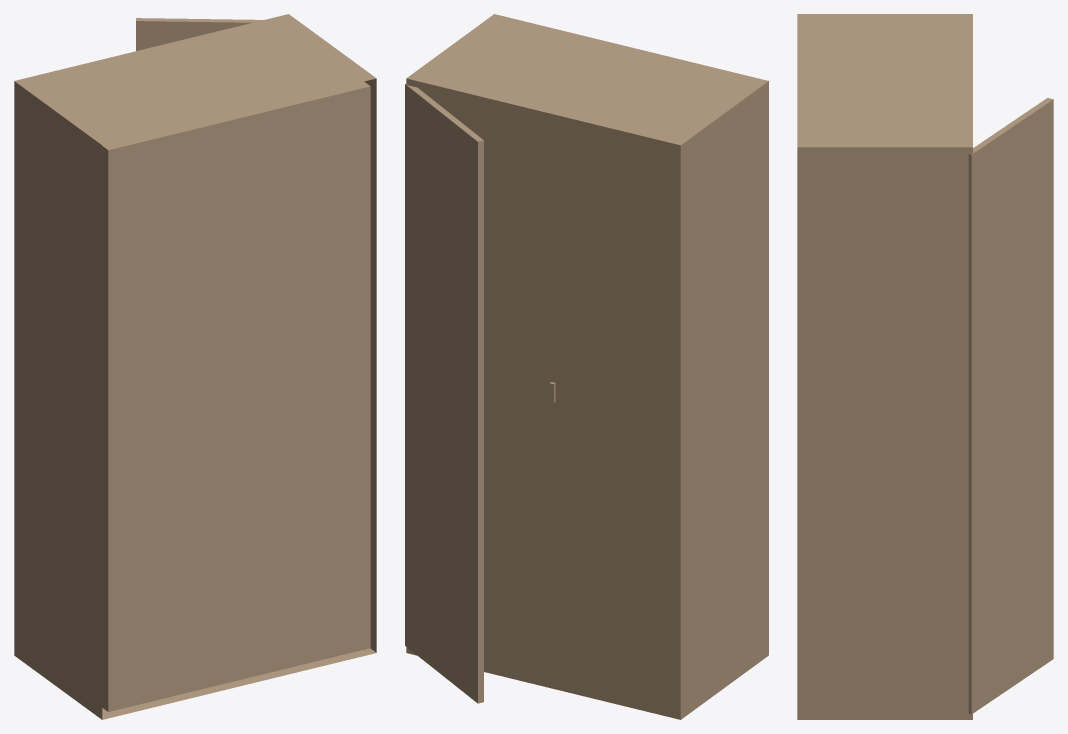
File: TuAo_Khoi.glb
3 renders of one model, left to right at view 1: azimuth 30°, elevation 25°; view 2: azimuth 150°, elevation 25°; view 3: azimuth 270°, elevation 25°, orthographic.
Visible parts, largest first — view 1: geometry_0; view 2: geometry_0; view 3: geometry_0.
Boxes of the visible parts, x1,y1,x2,y2 form: geometry_0: (14,14,376,719); geometry_0: (405,14,768,719); geometry_0: (797,14,1053,719).
Bounding box in the file's own units: 0.9056 × 1.8 × 0.7301.
